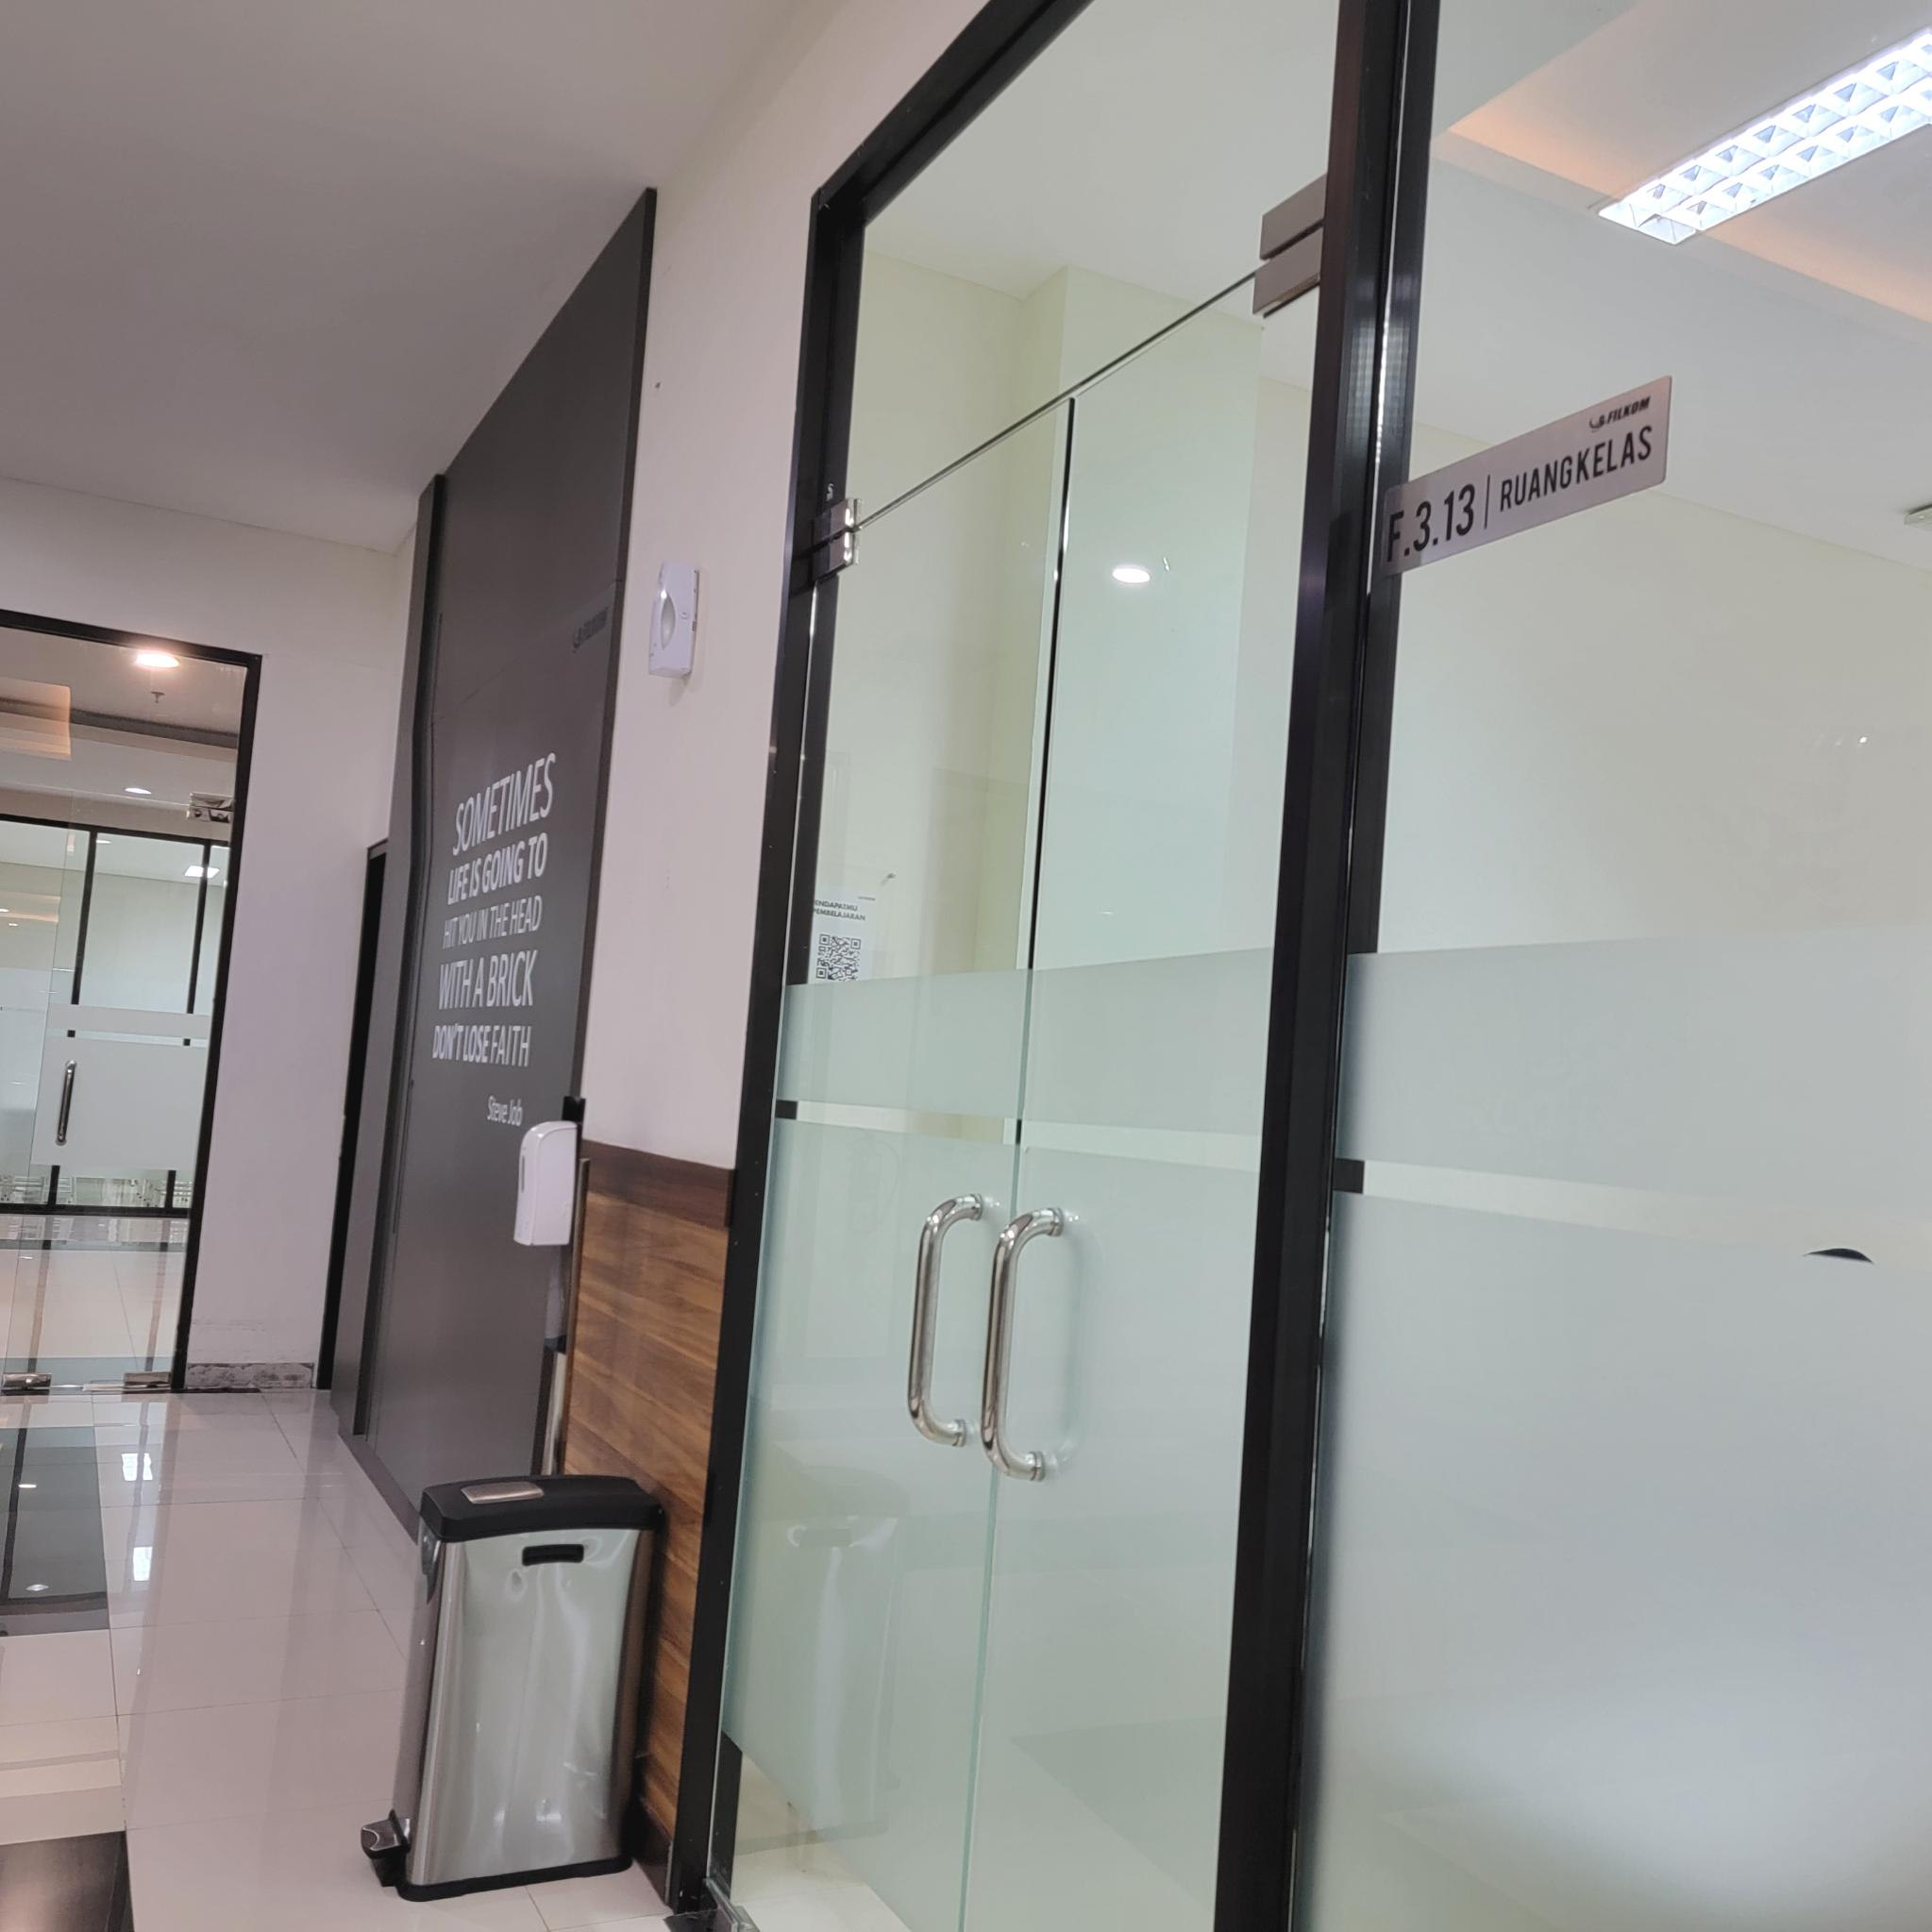plate: (1380, 377, 1672, 582)
